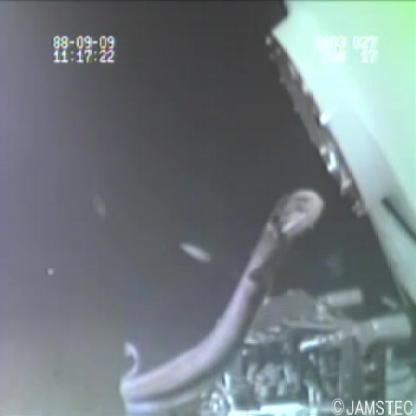Bio: (113, 187, 327, 416)
Rov: (261, 1, 416, 239), (187, 284, 416, 415)
